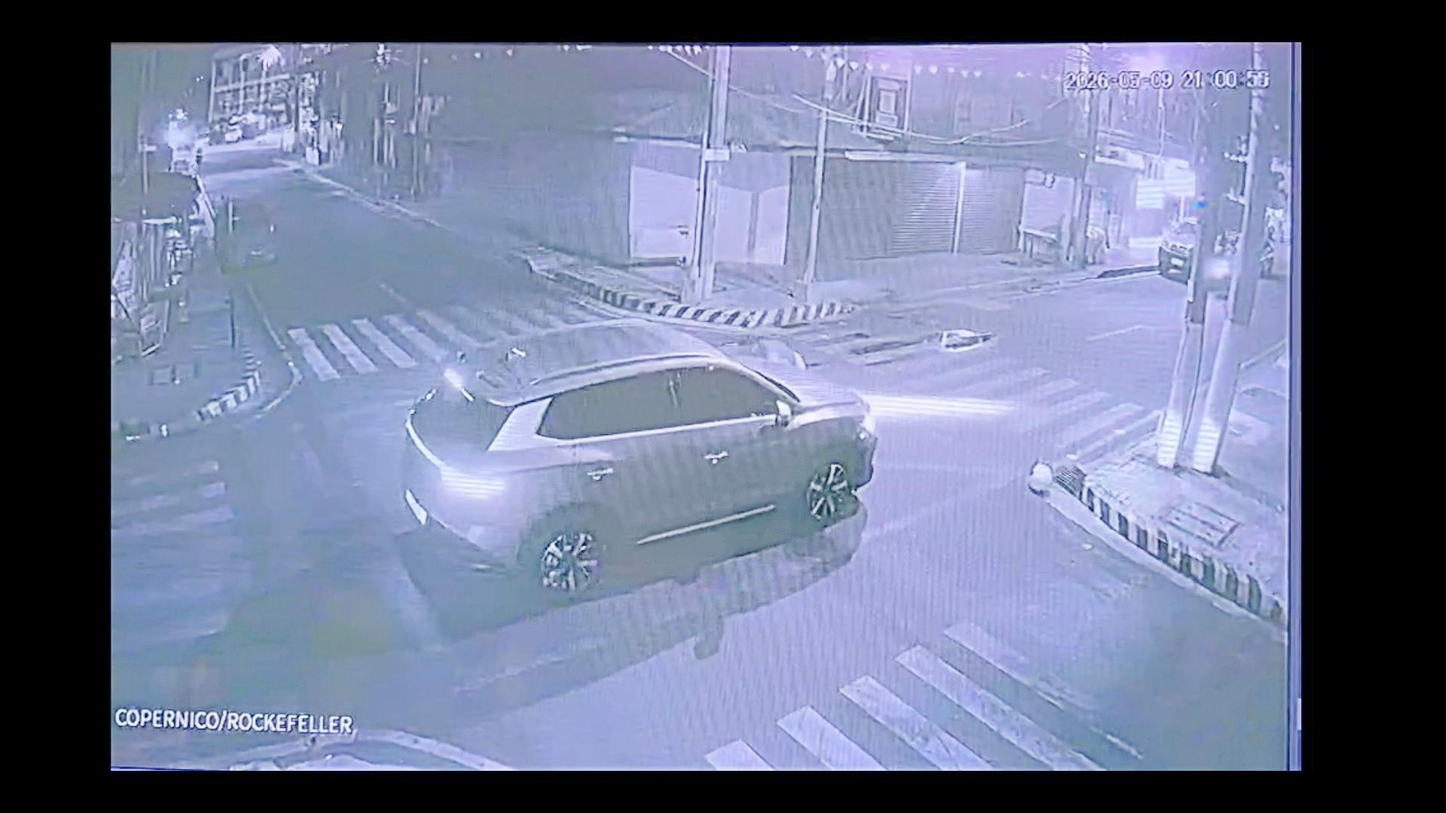Car: (433, 337, 874, 566)
Minor Accident: (433, 335, 875, 568)
Motor: (689, 336, 810, 376)
